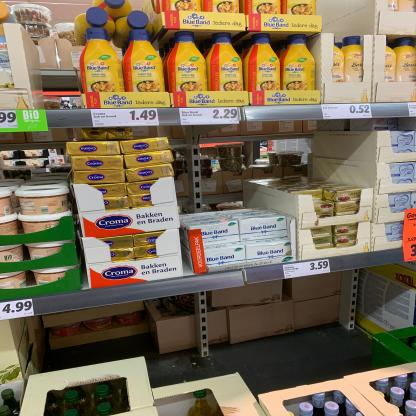prtg: (91, 109, 160, 128), (180, 108, 240, 126), (284, 260, 331, 280), (322, 104, 373, 120), (1, 300, 35, 321), (1, 111, 19, 129), (408, 103, 415, 118)
